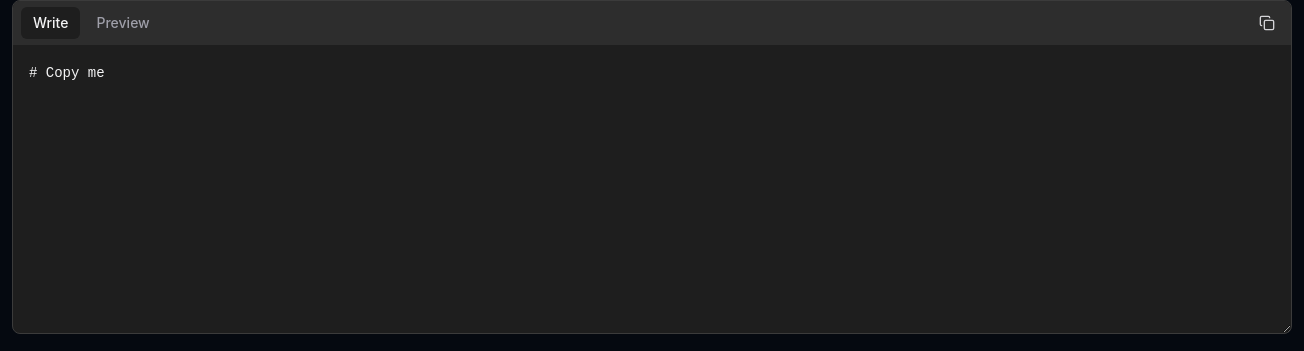
Test case: copies raw Markdown and reports success accessibly
This screenshot has width=1304, height=351.
Click the button named "Copy Markdown".
click(1267, 23)  # box [1251,7,1283,39]
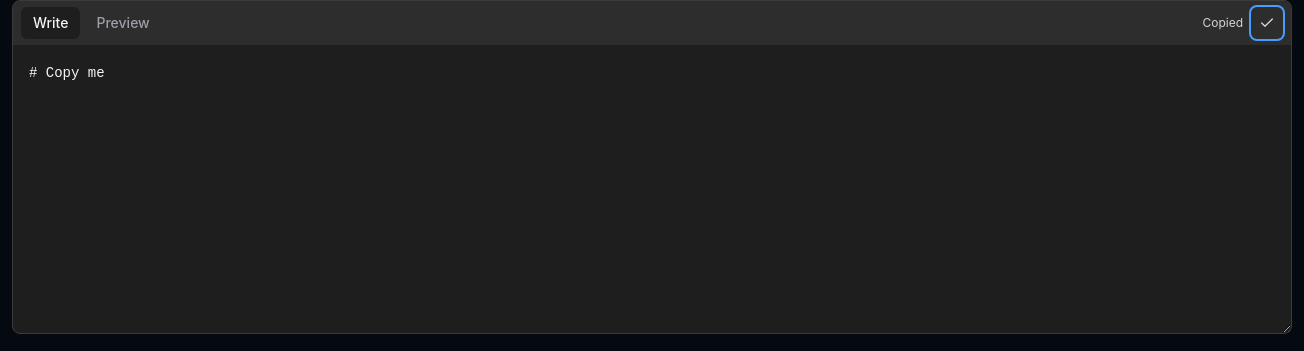
Result: the message reads "Copied" at [1202,15,1243,30]
